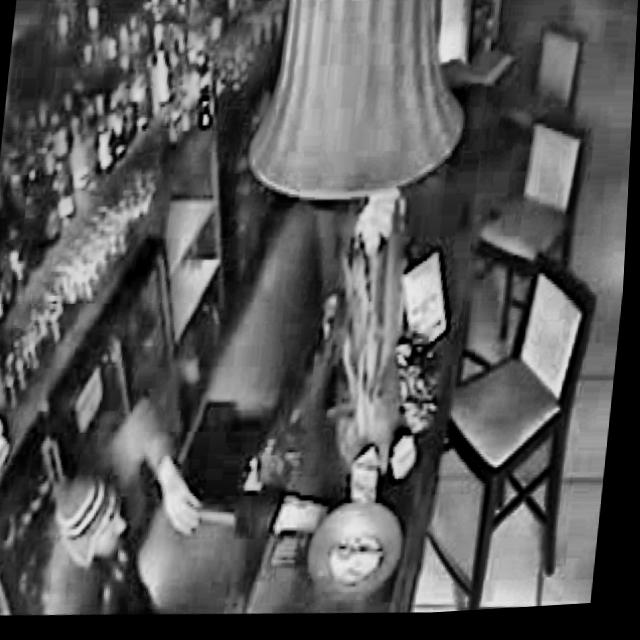burglary: (33, 387, 275, 626)
